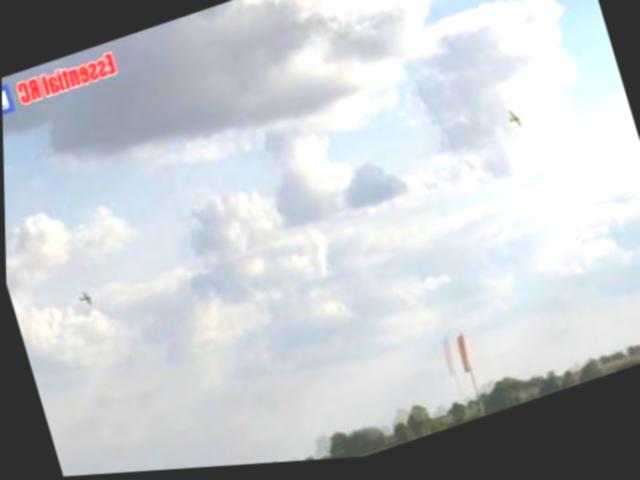uav: (495, 107, 536, 145), (72, 287, 100, 312)
